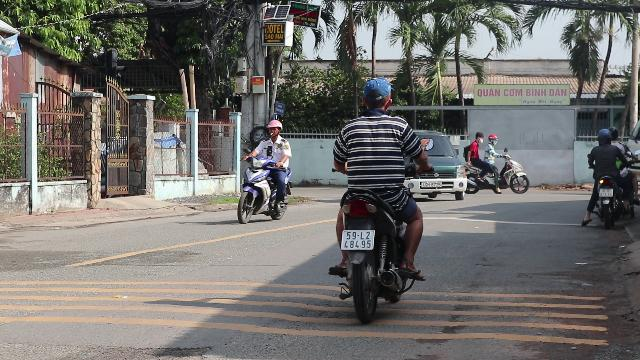helmet: (266, 118, 282, 138), (596, 128, 612, 144)
licenseplate: (342, 229, 374, 249), (599, 189, 613, 197)
motorcyclist: (323, 72, 431, 318), (236, 118, 294, 224), (582, 128, 636, 228)
nohelmet: (360, 77, 394, 114)
